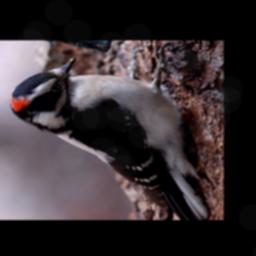Woodpecker: (5, 54, 212, 218)
